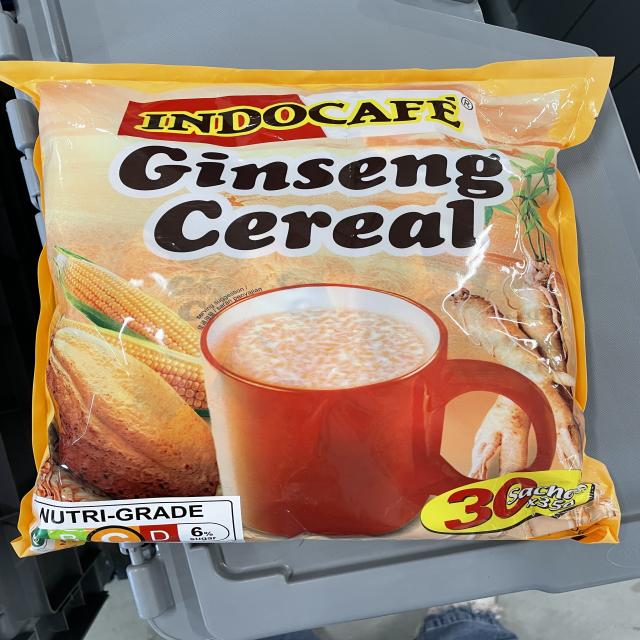object_name: (34, 72, 592, 542)
